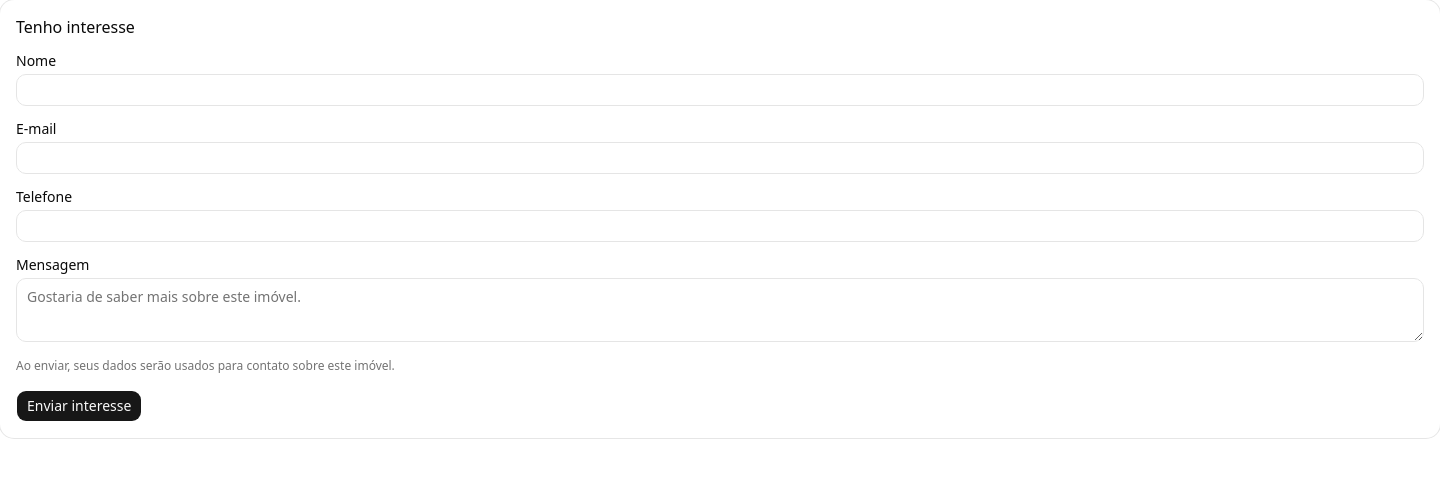
PropertyInterestForm — error handling › shows a contextual message for 400
Type "Maria Souza" into the field labelled "Nome" at (720, 90), box [16,74,1424,106]
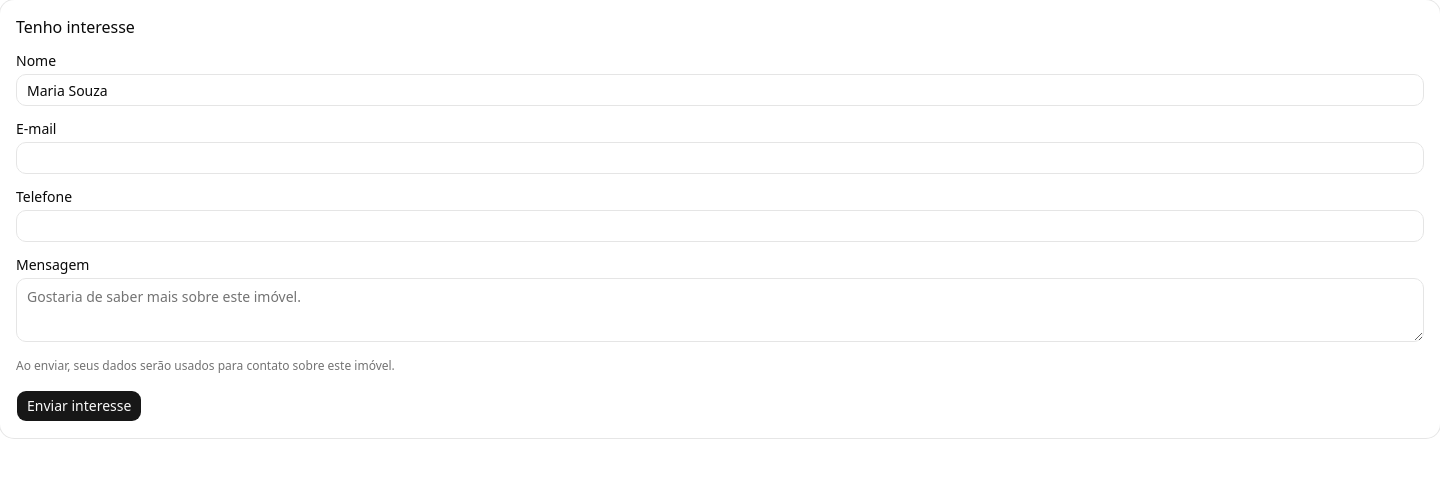
Type "maria@example.com" into the field labelled "E-mail" at (720, 158), box [16,142,1424,174]
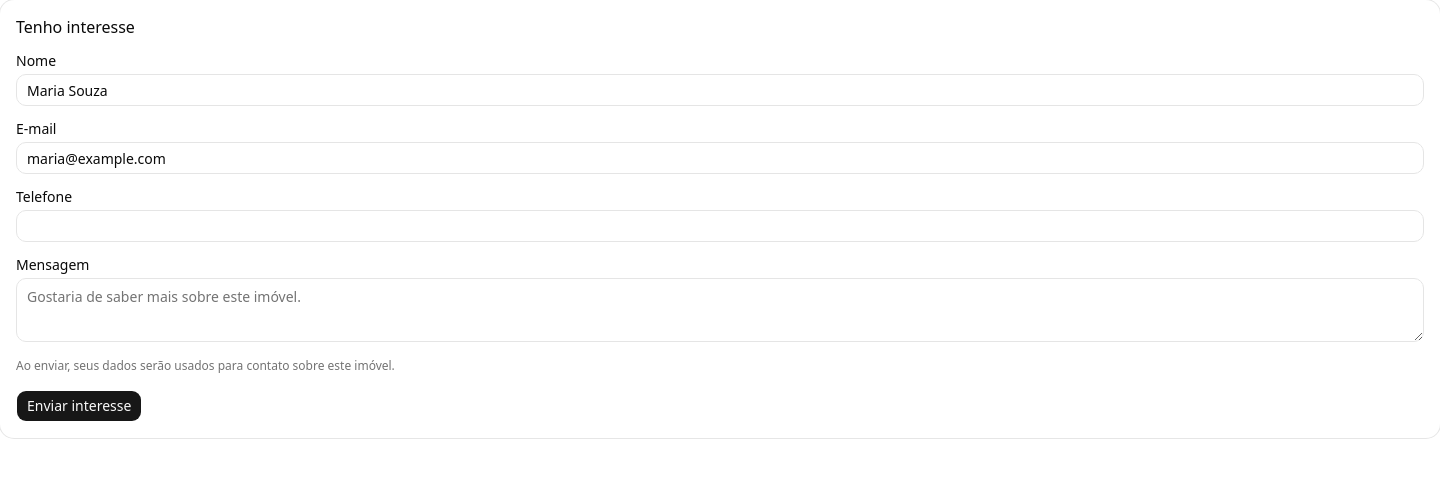
Click the button "Enviar interesse" at (79, 406), box [16,390,142,422]
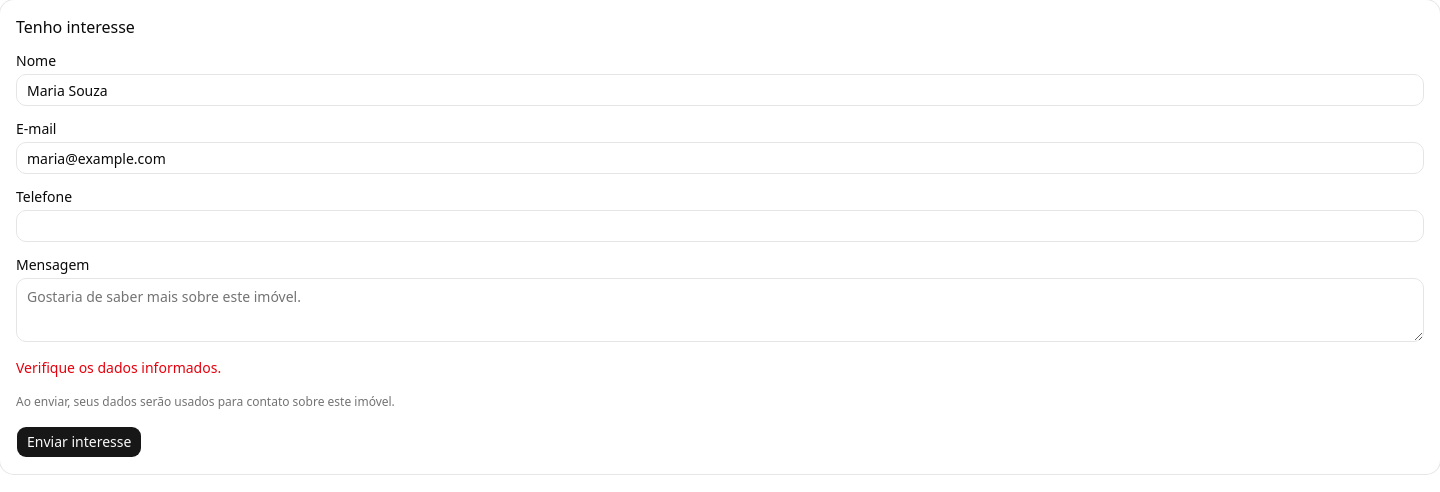
Check: the message reads "Verifique os dados informados.", box [16,358,221,377]
